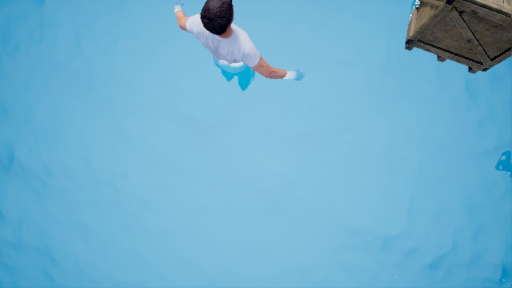person: (165, 1, 314, 99)
